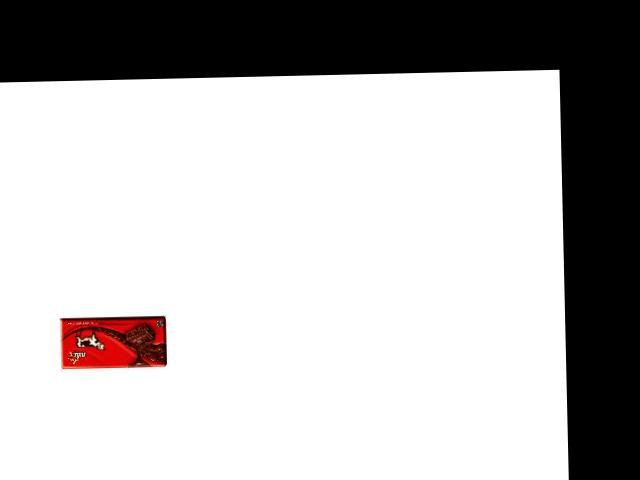chocolate: (56, 310, 169, 371)
